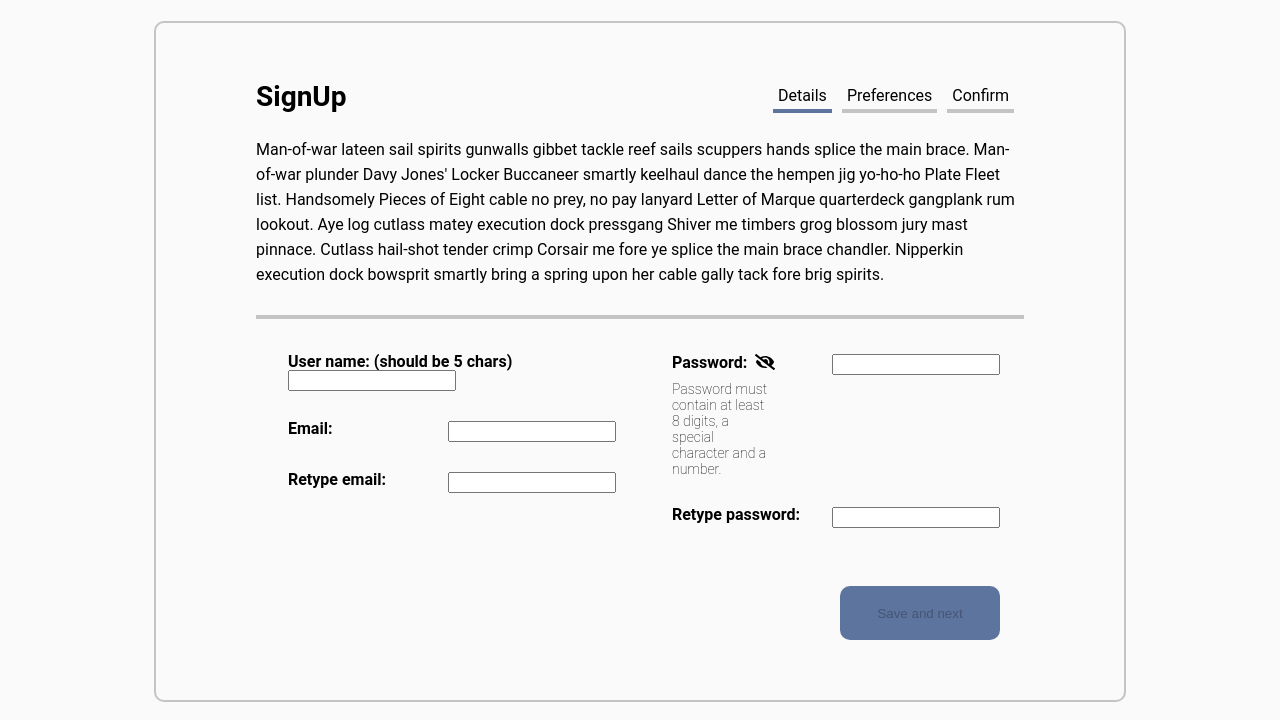
Test: it renders details form › input validation › Should show error if incorrect email used and disappear if correct email used
(page scrolled)
Type "Not a real email dummy" into the field named "email" at (532, 432), box top-left (448, 421), bottom-right (616, 442)
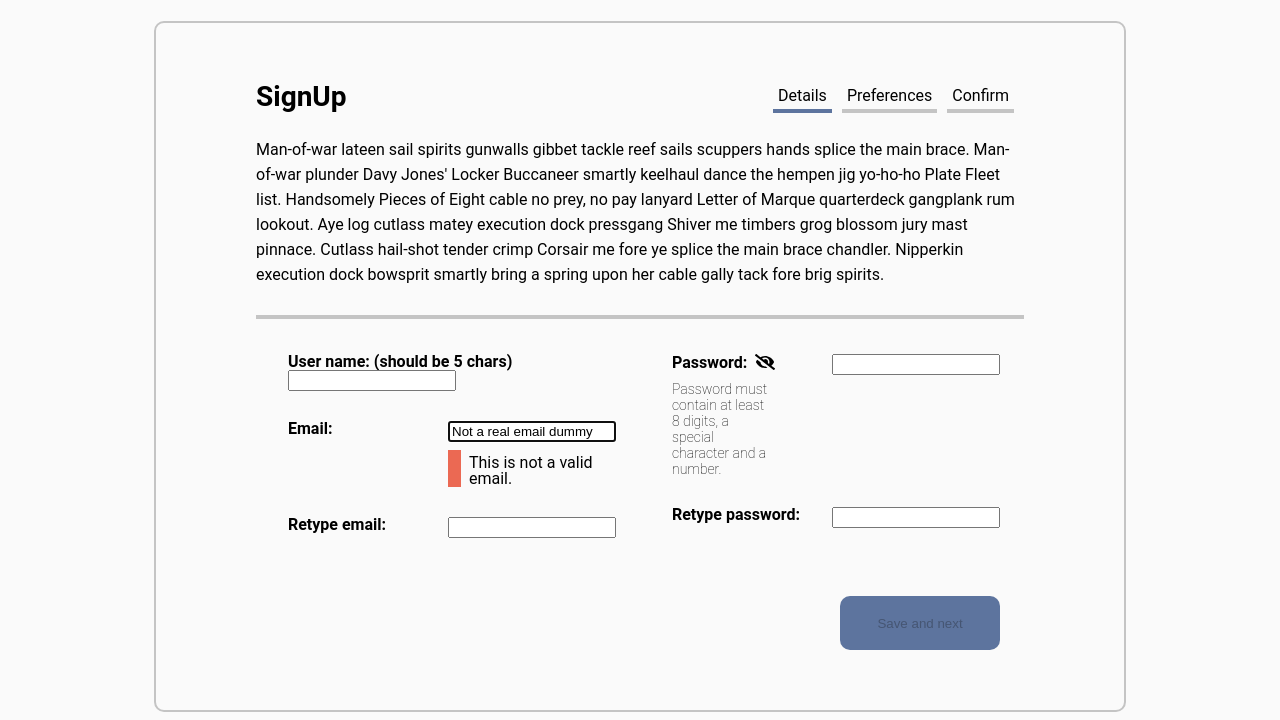
Expected: the text "This is not a valid email." is shown, top-left (448, 450), bottom-right (608, 487)
Replace the text in the field named "email" with "iLove@cypress.com" at (532, 432), box top-left (448, 421), bottom-right (616, 442)
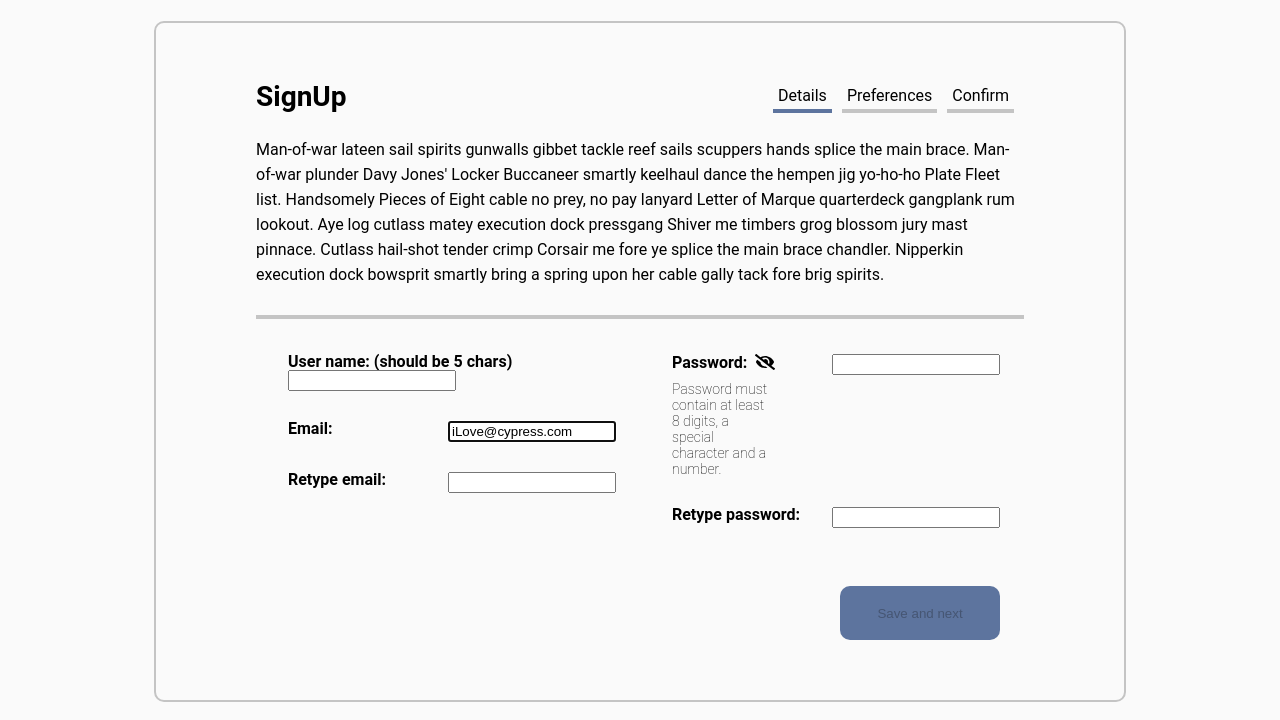
Expected: the text "This is not a valid email." is gone
